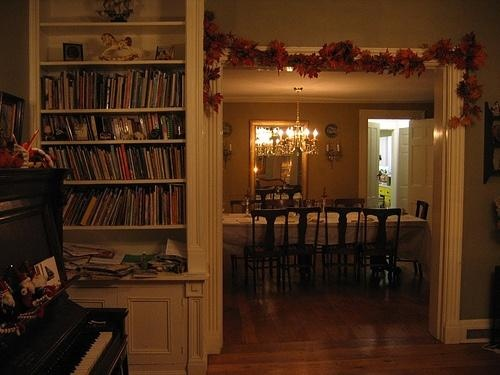chair: (244, 208, 288, 289), (392, 200, 431, 279), (285, 206, 323, 287), (364, 207, 403, 284), (323, 206, 362, 280)
diningtable: (224, 213, 430, 279)
